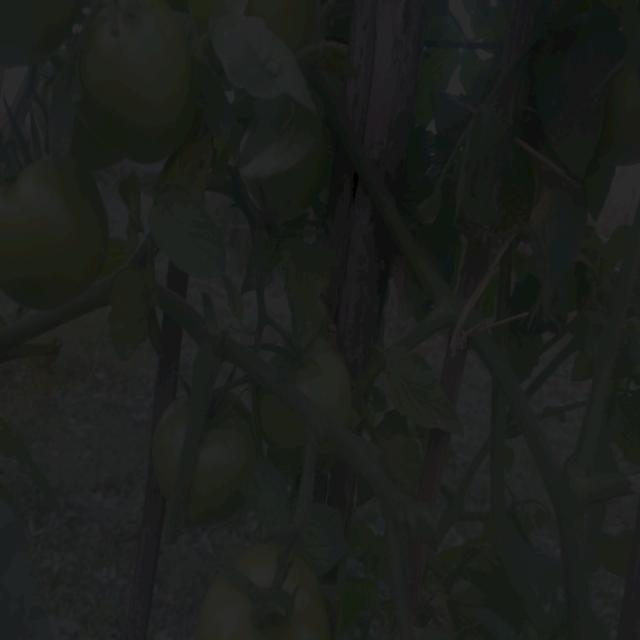tomato: (1, 152, 110, 303), (86, 1, 193, 147), (212, 550, 322, 640), (196, 395, 253, 512), (284, 334, 359, 422), (1, 1, 87, 65), (609, 67, 640, 168), (260, 1, 320, 49), (267, 393, 313, 454), (159, 391, 180, 493)
